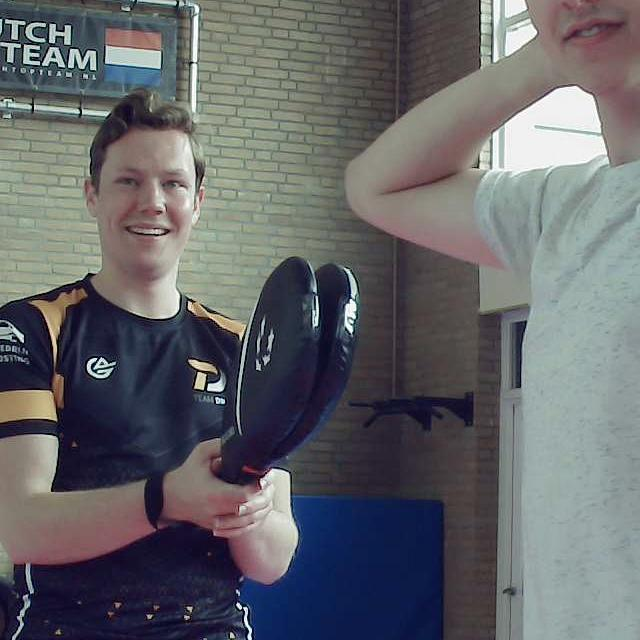paddle: (215, 259, 369, 486)
